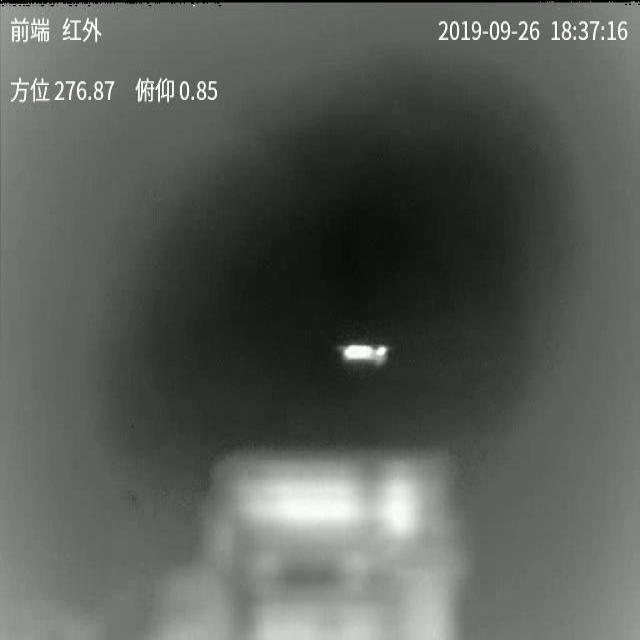drone: (337, 344, 391, 366)
